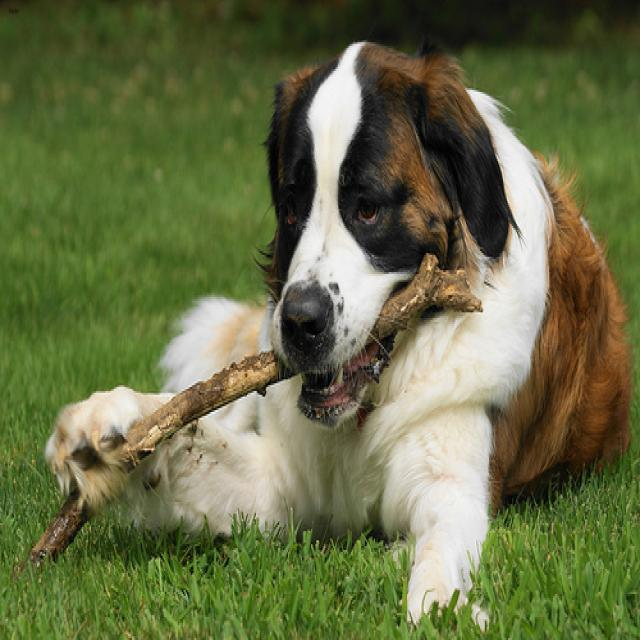dog-saint_bernard: (33, 27, 637, 636)
